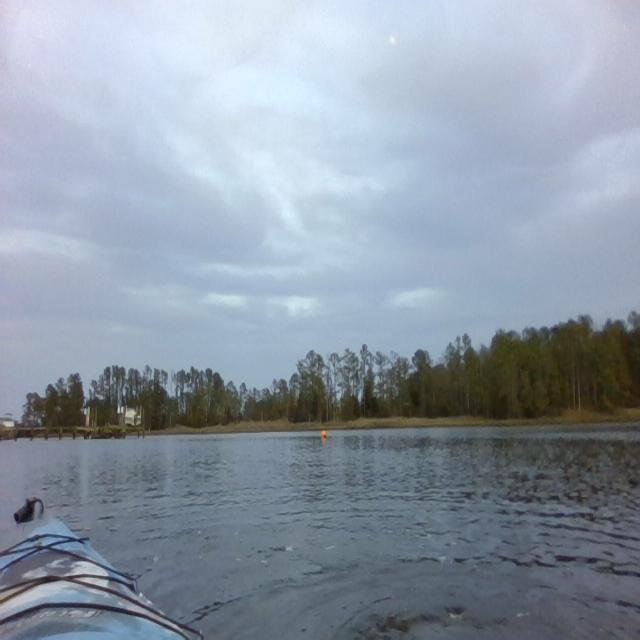Buoy: (320, 428, 327, 442)
